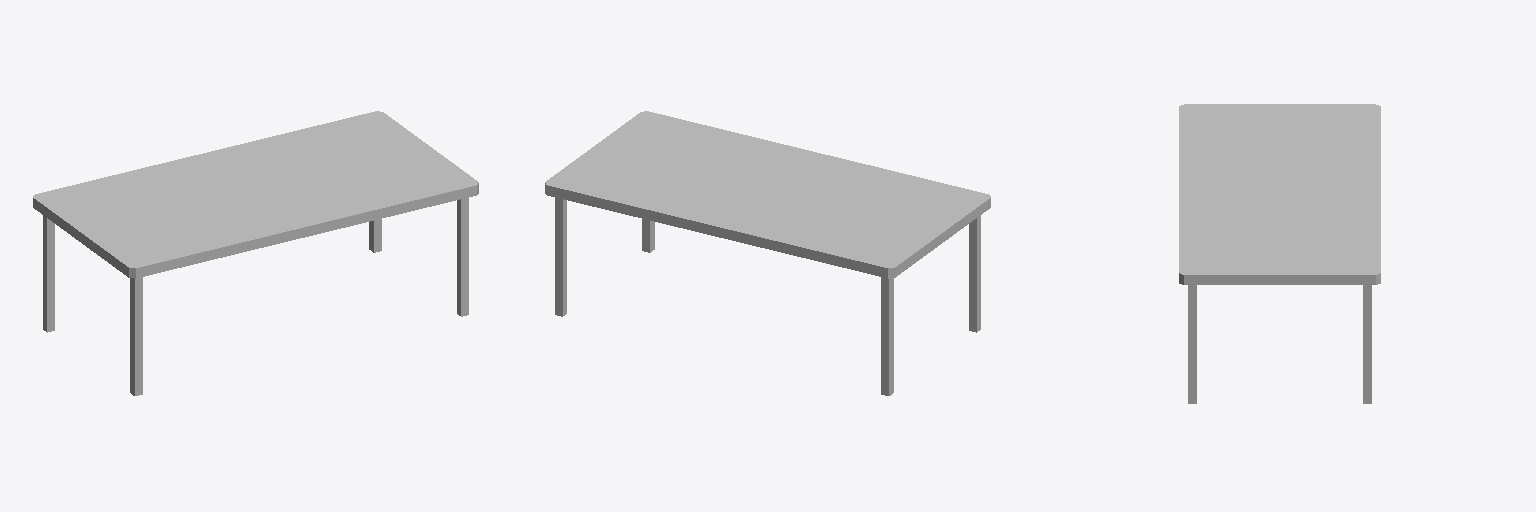
File: hor1_table2b.obj
3 views of the same model, side by side, from view 1: azimuth 30°, elevation 25°; view 2: azimuth 150°, elevation 25°; view 3: azimuth 270°, elevation 25° (orthographic).
Parts seen in each view (by area): view 1: Plane.001_Plane.013; view 2: Plane.001_Plane.013; view 3: Plane.001_Plane.013.
Part boxes in pixels (left/top/right/bottom): Plane.001_Plane.013: left=33, top=111, right=478, bottom=395; Plane.001_Plane.013: left=545, top=111, right=990, bottom=395; Plane.001_Plane.013: left=1179, top=104, right=1380, bottom=403.
Size of the model in its own units: 1.8 by 0.65 by 0.9.